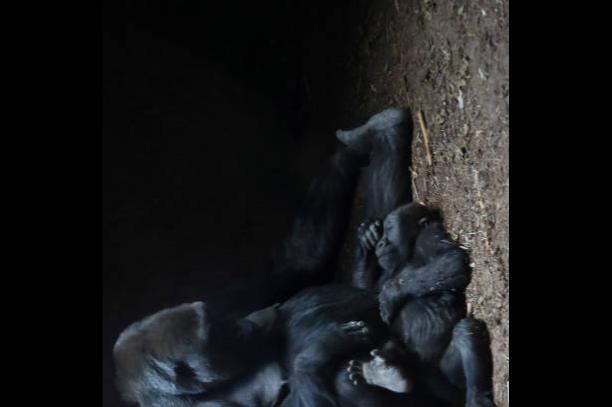gorille_Autres: (104, 178, 466, 407)
